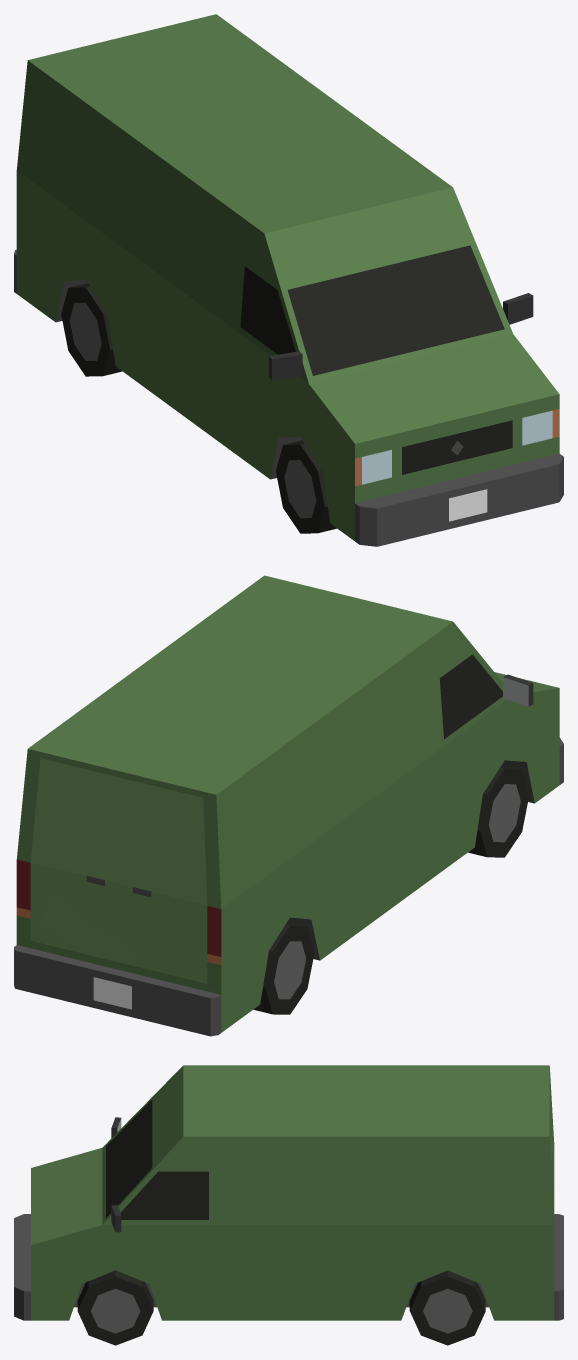
File: Veh_Van_03_Green.glb
The picture shows the model from 3 angles, top to bottom: view 1: azimuth 30°, elevation 25°; view 2: azimuth 150°, elevation 25°; view 3: azimuth 270°, elevation 25°; orthographic projection. The views are drawn at different scales.
Parts seen in each view (by area): view 1: Van_03_Green, Wheel_FR, Wheel_RR; view 2: Van_03_Green, Wheel_FR, Wheel_RR; view 3: Van_03_Green, Wheel_FL, Wheel_RL.
Part boxes in pixels (<box>): Van_03_Green: <box>14,14,563,546</box>; Wheel_FR: <box>276,440,336,533</box>; Wheel_RR: <box>61,283,122,376</box>; Van_03_Green: <box>14,575,563,1036</box>; Wheel_FR: <box>468,764,529,857</box>; Wheel_RR: <box>253,921,314,1014</box>; Van_03_Green: <box>14,1065,563,1320</box>; Wheel_FL: <box>77,1270,153,1345</box>; Wheel_RL: <box>409,1270,485,1345</box>.
Bounding box in the file's own units: 1.41 × 1.37 × 3.31.
Materials: 1 (1 with a texture image).
